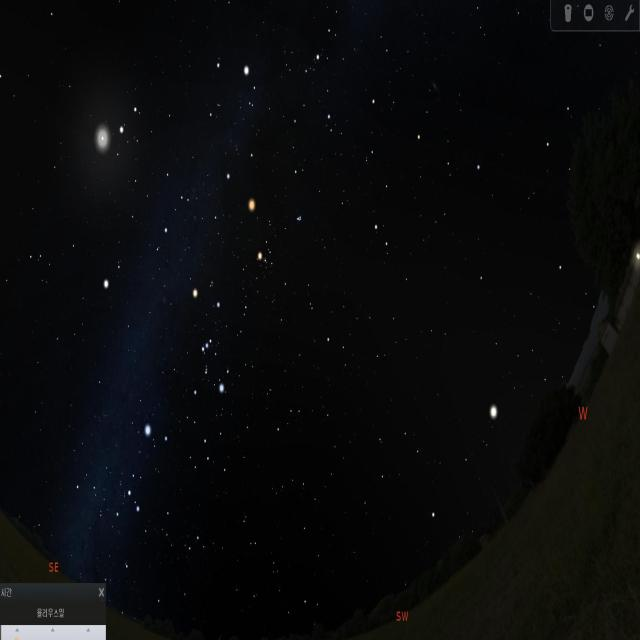canis_major: (115, 408, 173, 516)
canis_minor: (97, 251, 129, 292)
gemini: (109, 96, 207, 235)
moon: (82, 109, 121, 168)
orion: (180, 274, 233, 400)
pleiades: (292, 205, 306, 234)
taurus: (259, 198, 314, 290)
